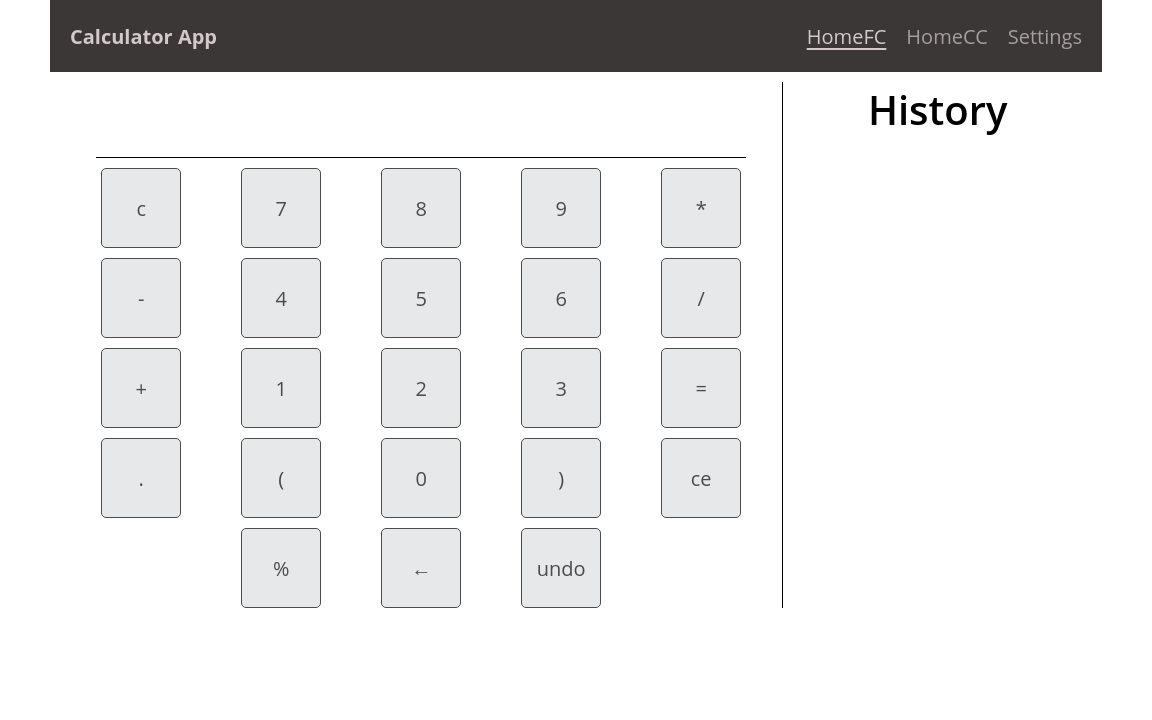
Test: test calcurator app › testing FC components and add command
Check: the element with test id "header" is shown, box [50,0,1102,72]
Check: the element with test id "keypadFC" is shown, box [60,158,782,608]
Click the text "2".
click(421, 388)  # box [381,348,461,428]
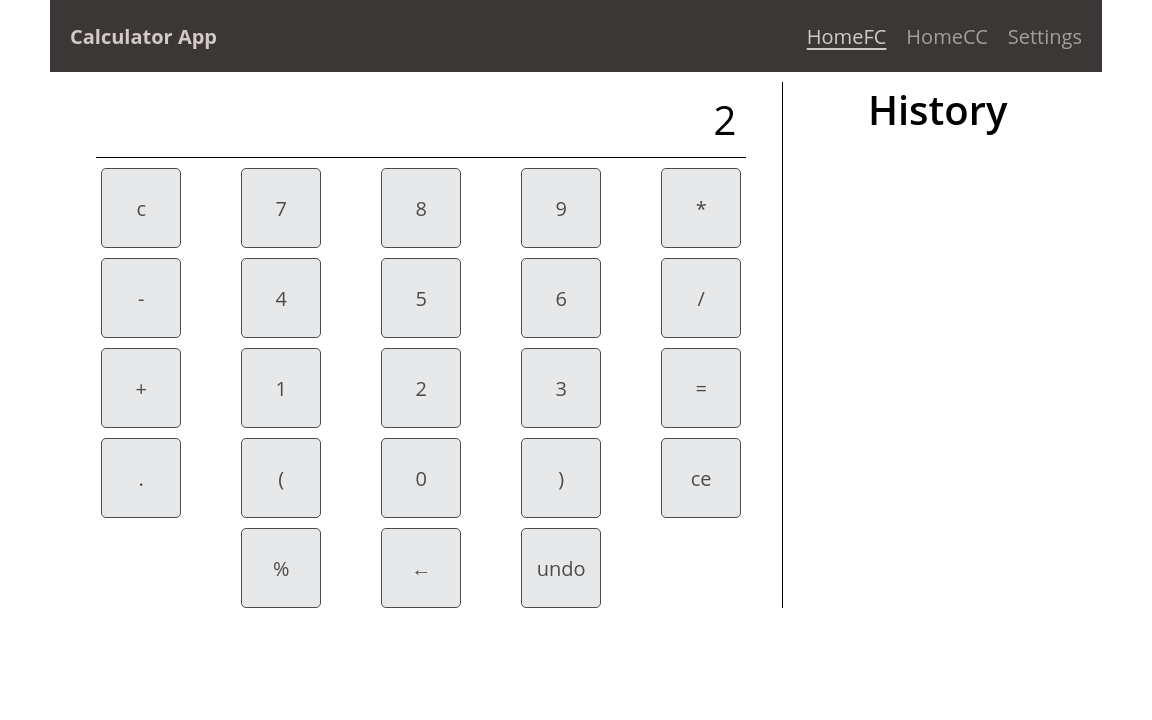
Check: the field with test id "displayFC" holds "2", box [96,82,746,157]
Click the text "+".
click(141, 388)  # box [101,348,181,428]
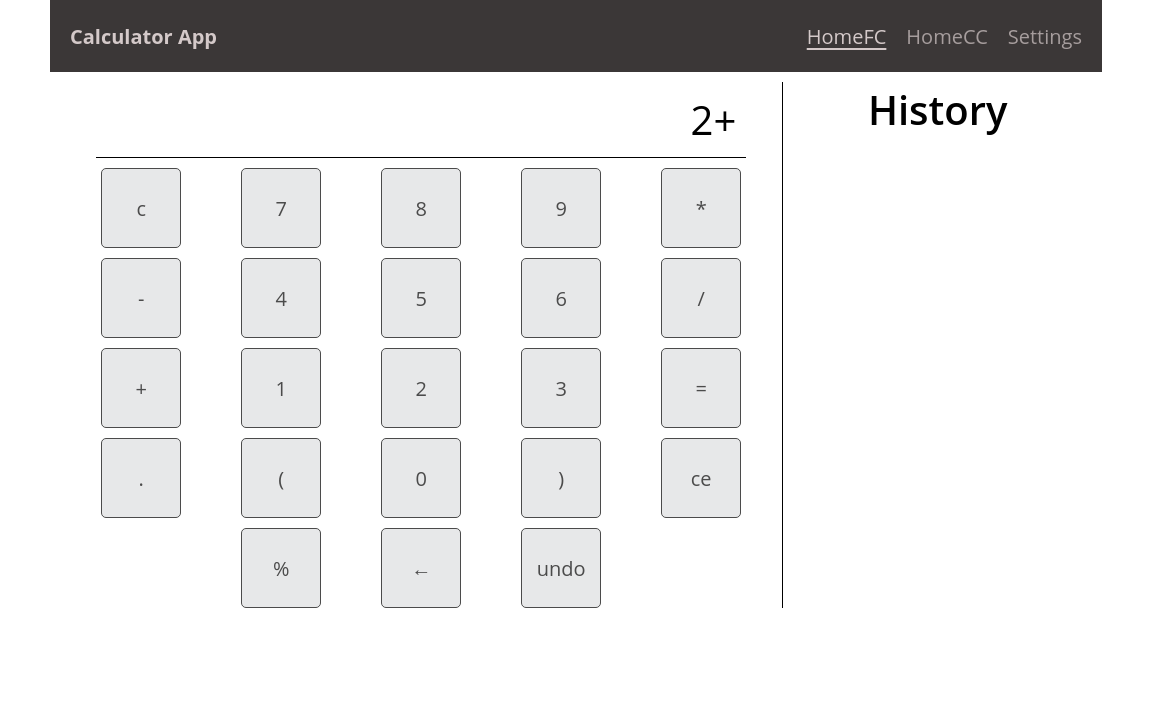
Check: the field with test id "displayFC" holds "2+", box [96,82,746,157]
Click the text "3".
click(561, 388)  # box [521,348,601,428]
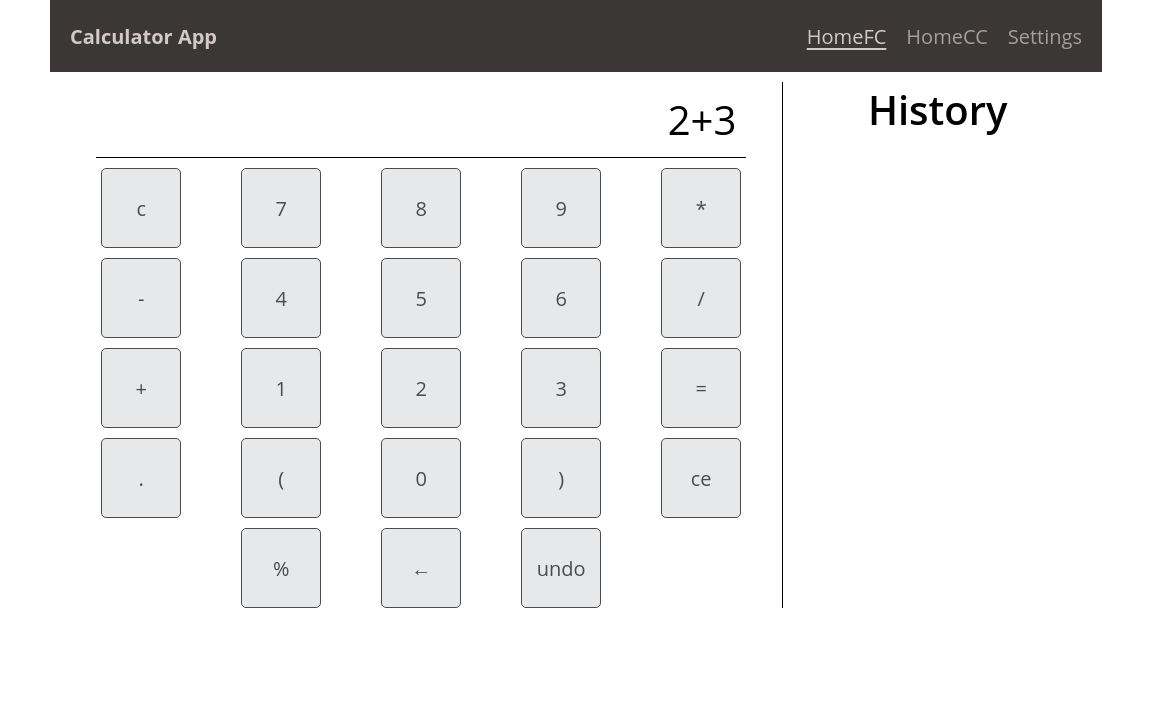
Check: the field with test id "displayFC" holds "2+3", box [96,82,746,157]
Click the text "=".
click(701, 388)  # box [661,348,741,428]
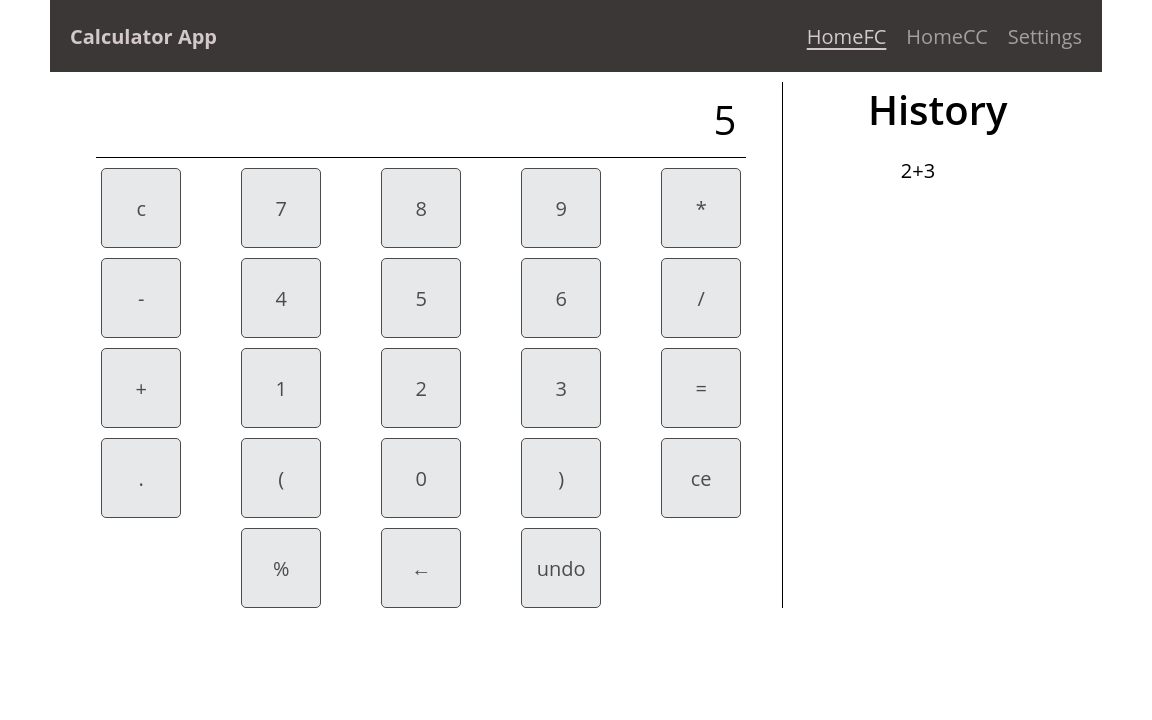
Check: the element with test id "historyFC" is shown, box [868,82,1008,184]
Check: the field with test id "displayFC" holds "5", box [96,82,746,157]
Check: the text "2+3" is shown, box [901,157,935,184]
